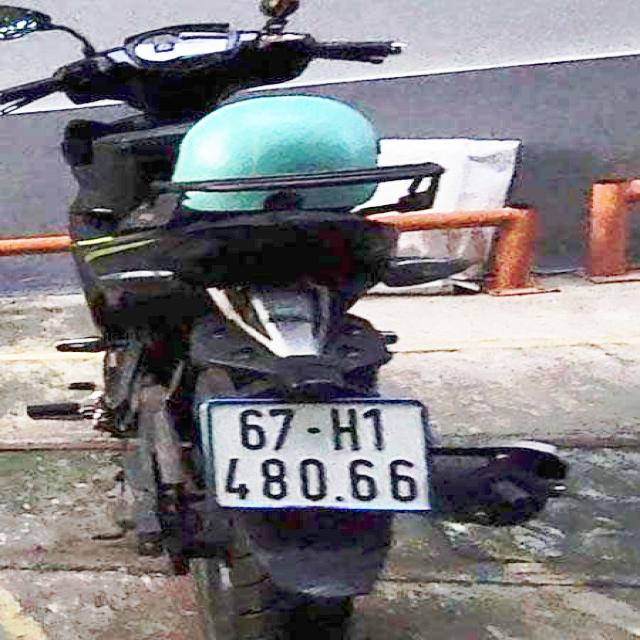license_plate: (209, 404, 425, 512)
